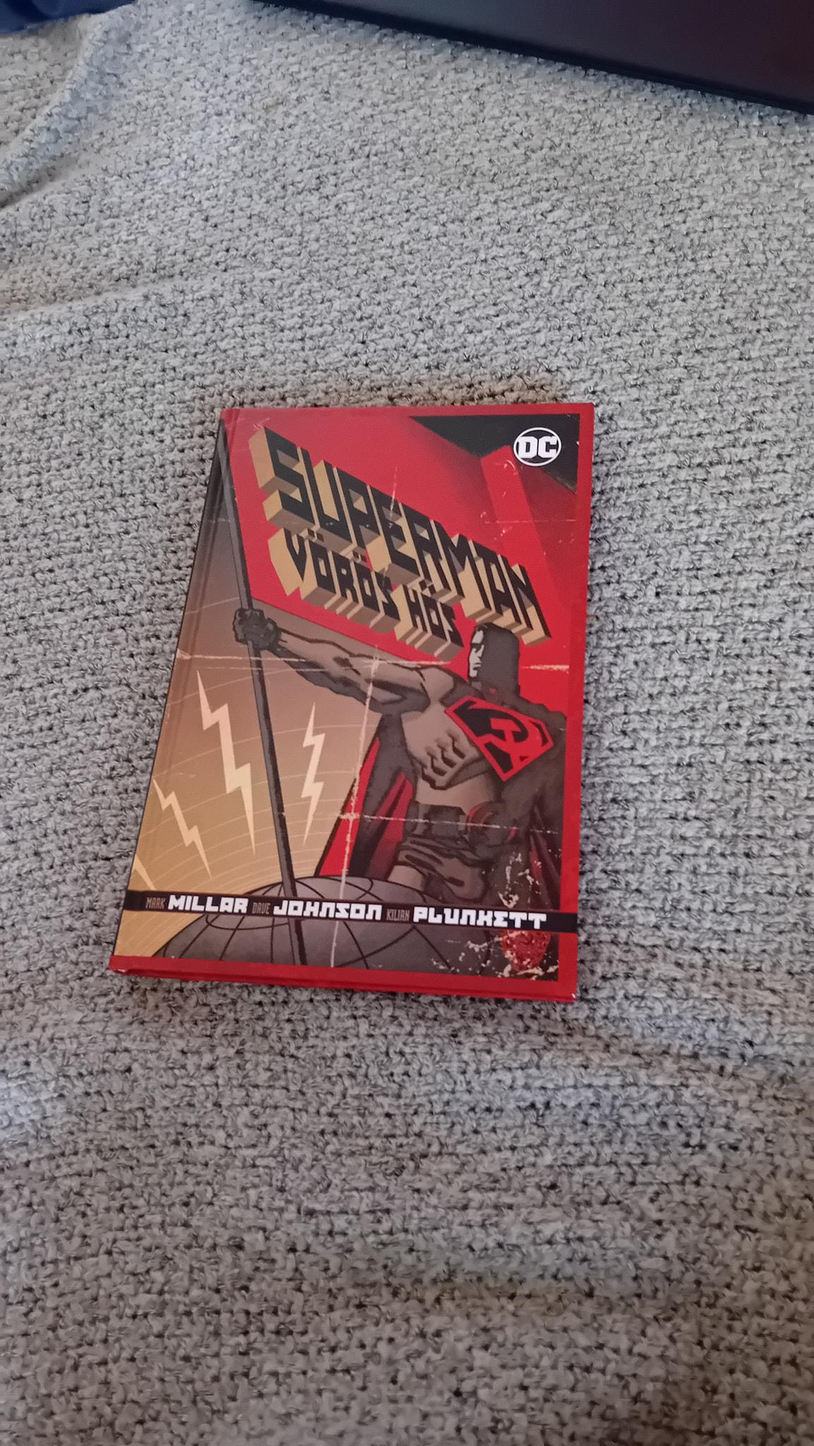comic: (111, 381, 608, 999)
